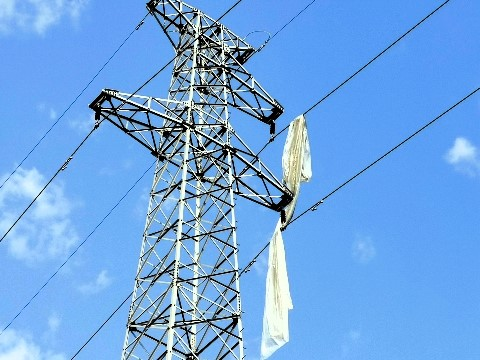wire foreign body: (260, 107, 323, 331)
